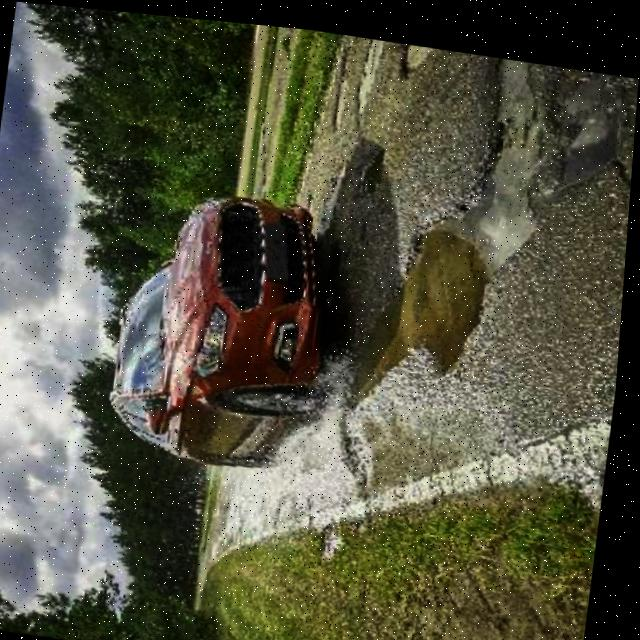Pothole: (395, 181, 503, 368), (351, 29, 385, 109), (356, 135, 387, 192), (395, 34, 433, 73)
